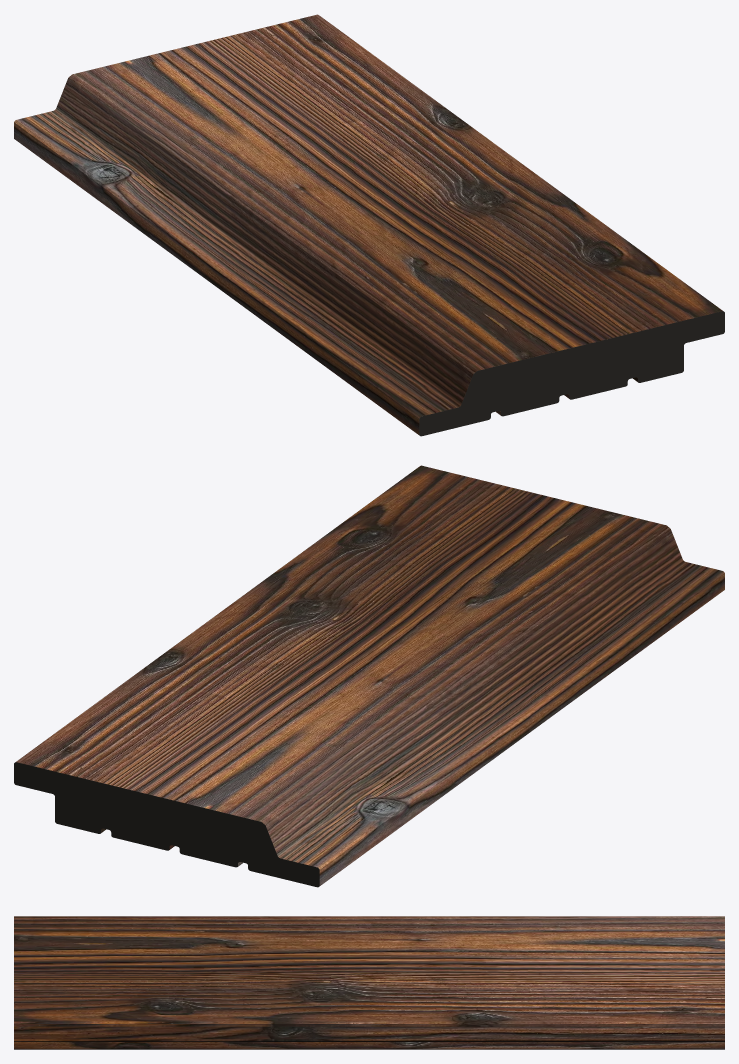
The model's file is spruce-facade-half-tenon-natural.glb.
The picture shows the model from 3 angles, top to bottom: view 1: azimuth 30°, elevation 25°; view 2: azimuth 150°, elevation 25°; view 3: azimuth 270°, elevation 25°; orthographic projection. The views are drawn at different scales.
Visible parts, largest first — view 1: Pusė_Špunto; view 2: Pusė_Špunto; view 3: Pusė_Špunto.
Boxes of the visible parts, x1,y1,x2,y2 form: Pusė_Špunto: (14, 14, 724, 436); Pusė_Špunto: (14, 465, 724, 887); Pusė_Špunto: (14, 916, 724, 1049).
Bounding box in the file's own units: 0.0723 × 0.0117 × 0.166.
3 materials, 1 textured.
